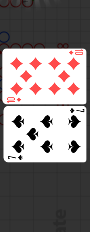10D: (5, 96, 22, 104)
7C: (6, 154, 24, 161)
